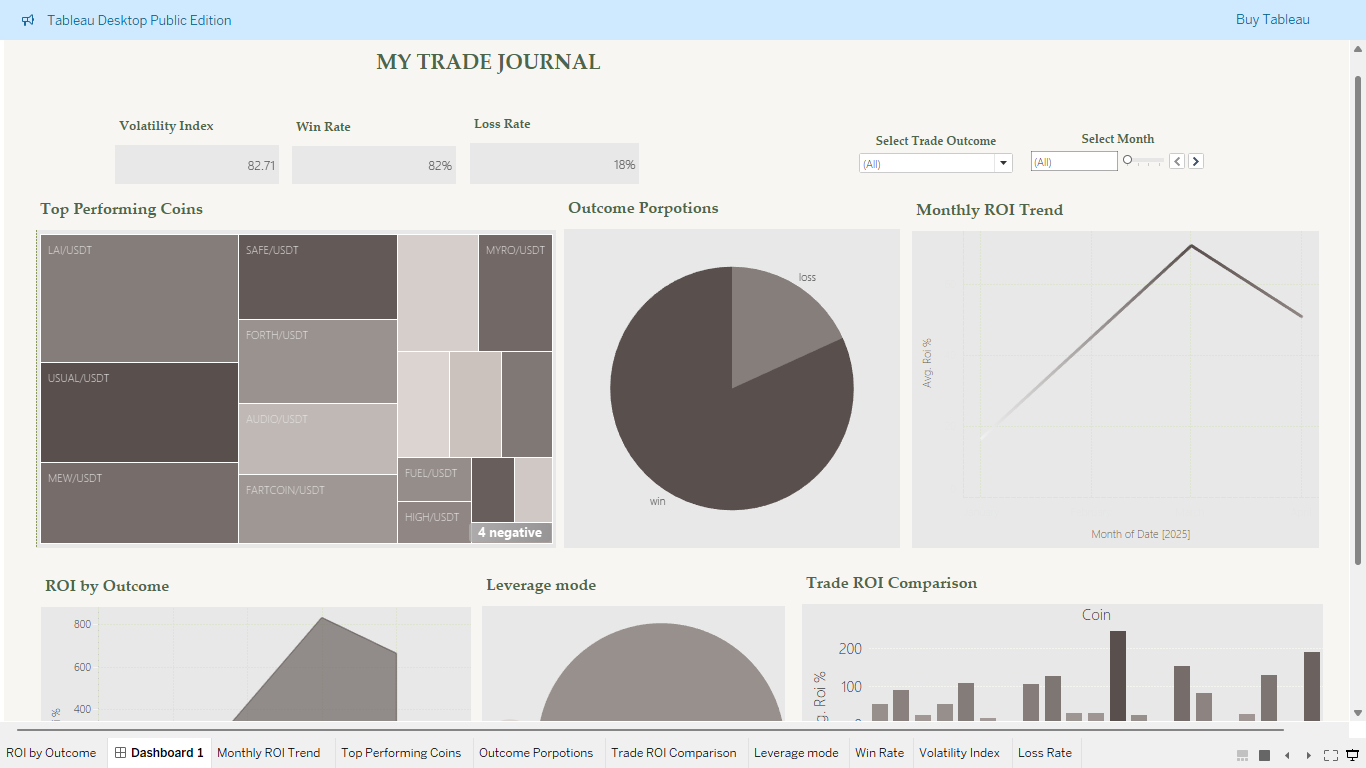

This screenshot's page, from the dashboard's own definition file:
{"tool":"tableau","page":{"name":"Dashboard 1","canvas":[1400,900],"ordinal":0},"visuals":[{"type":"image","param":"C:/Users/USER PC/Downloads/Untitled design(2).png","box":[0,0,1400,900]},{"type":"text","box":[254,9,469,76]},{"type":"worksheet","title":"Loss Rate","mark":"Automatic","box":[470,96,169,74]},{"type":"worksheet","title":"Volatility Index","mark":"Automatic","box":[115,98,164,72]},{"type":"worksheet","title":"Win Rate","mark":"Automatic","box":[292,99,164,71]},{"type":"filter","title":"Outcome Porpotions","param":"[federated.14b1h8d0u9d5xr148i0j5100dtlo].[mn:Date:ok]","box":[1028,116,180,50]},{"type":"filter","title":"Outcome Porpotions","param":"[federated.14b1h8d0u9d5xr148i0j5100dtlo].[none:Trade Outcome:nk]","box":[856,118,160,49]},{"type":"worksheet","title":"Outcome Porpotions","mark":"Pie","box":[564,178,336,356]},{"type":"worksheet","title":"Top Performing Coins","mark":"Automatic","box":[36,179,520,355]},{"type":"worksheet","title":"Monthly ROI Trend ","mark":"Automatic","rows":["ROI %"],"cols":["Date"],"box":[912,180,407,354]},{"type":"worksheet","title":"Trade ROI Comparison","mark":"Bar","rows":["ROI %"],"cols":["Coin"],"box":[802,553,521,321]},{"type":"worksheet","title":"Leverage mode","mark":"Circle","box":[482,555,303,319]},{"type":"worksheet","title":"ROI by Outcome","mark":"Area","rows":["ROI %"],"cols":["Date"],"box":[41,556,430,319]}]}

Visuals, with their boxes on the page's 1400x900 design canvas (x1, y1, x2, y2). These are canvas units, not pixel positions in the 1366x768 screenshot, which may show the page scaled, cropped or inside an application window:
image: [left=0, top=0, right=1400, bottom=900]
text: [left=254, top=9, right=723, bottom=85]
"Loss Rate" worksheet: [left=470, top=96, right=639, bottom=170]
"Volatility Index" worksheet: [left=115, top=98, right=279, bottom=170]
"Win Rate" worksheet: [left=292, top=99, right=456, bottom=170]
"Outcome Porpotions" filter: [left=1028, top=116, right=1208, bottom=166]
"Outcome Porpotions" filter: [left=856, top=118, right=1016, bottom=167]
"Outcome Porpotions" worksheet (Pie marks): [left=564, top=178, right=900, bottom=534]
"Top Performing Coins" worksheet: [left=36, top=179, right=556, bottom=534]
"Monthly ROI Trend " worksheet: [left=912, top=180, right=1319, bottom=534]
"Trade ROI Comparison" worksheet (Bar marks): [left=802, top=553, right=1323, bottom=874]
"Leverage mode" worksheet (Circle marks): [left=482, top=555, right=785, bottom=874]
"ROI by Outcome" worksheet (Area marks): [left=41, top=556, right=471, bottom=875]
